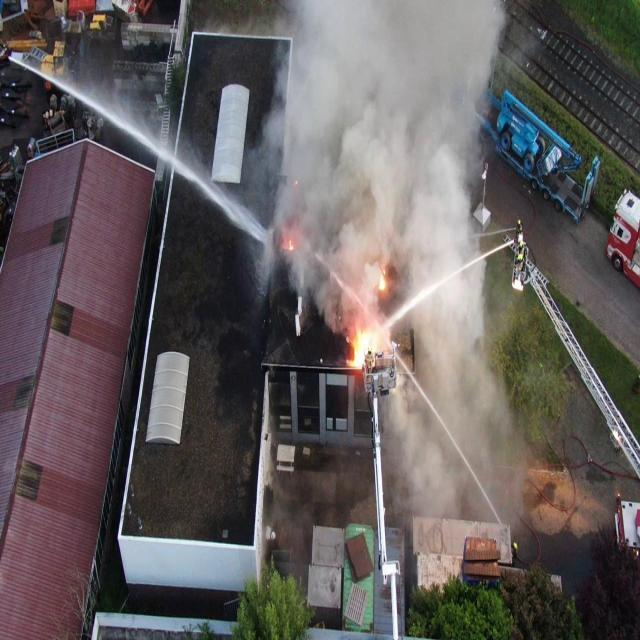Fire: (347, 328, 379, 369), (378, 276, 386, 291), (288, 240, 294, 250), (383, 270, 386, 274), (296, 180, 298, 184)
Smoke: (249, 0, 533, 538)
